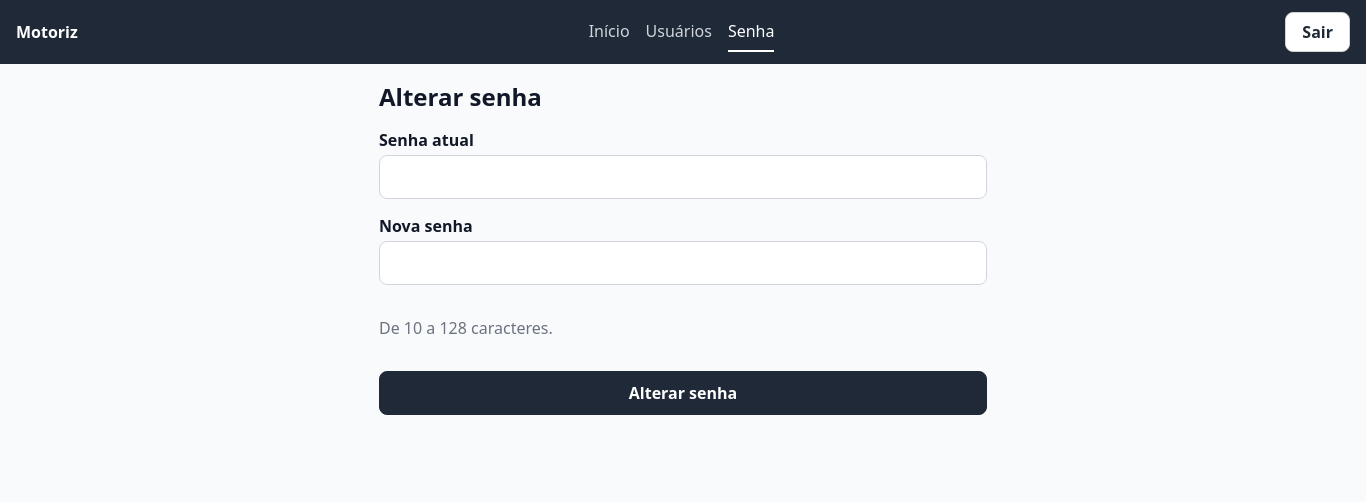
Test: AlterarSenha › troca a senha e confirma
In the password field labelled "Senha atual": (683, 177) [379,155,987,199], type "senha-antiga-1"
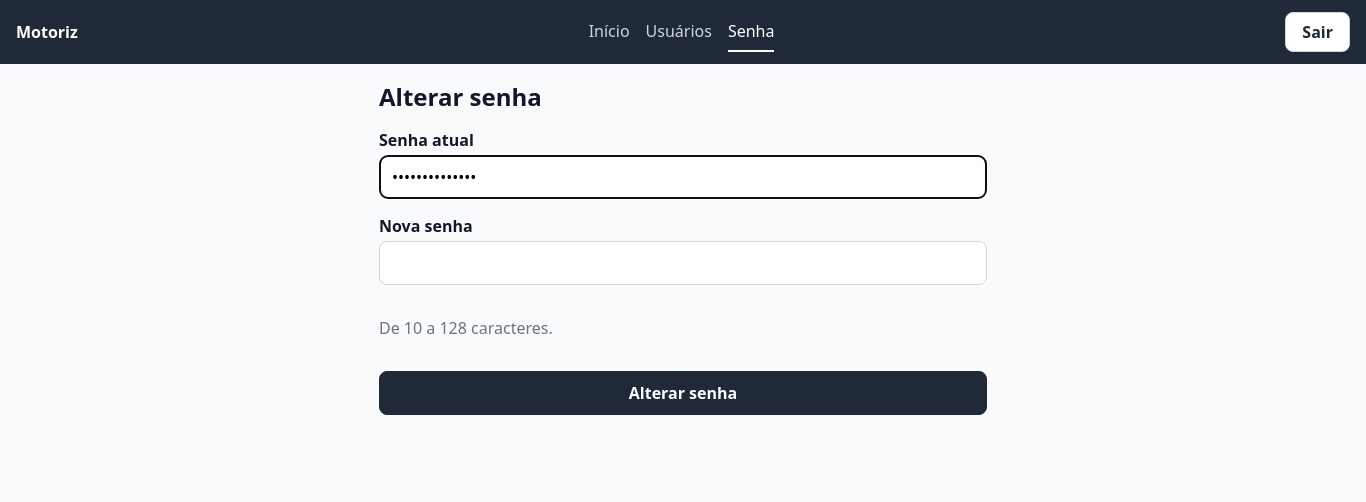
In the password field labelled "Nova senha": (683, 263) [379,241,987,285], type "nova-senha-123"
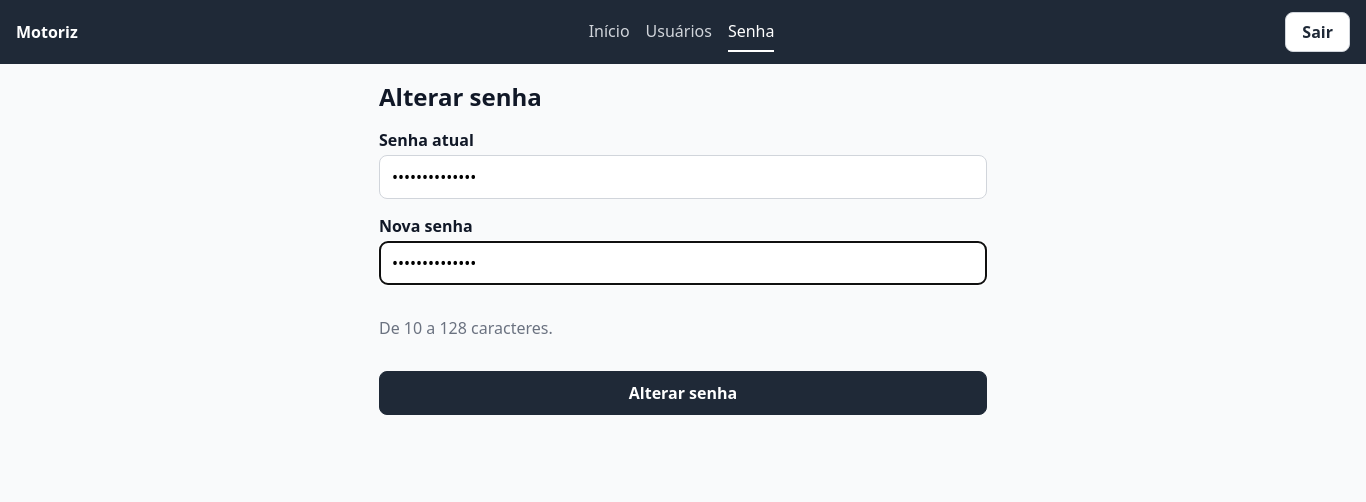
Click the button "Alterar senha": (683, 393) [379,371,987,415]
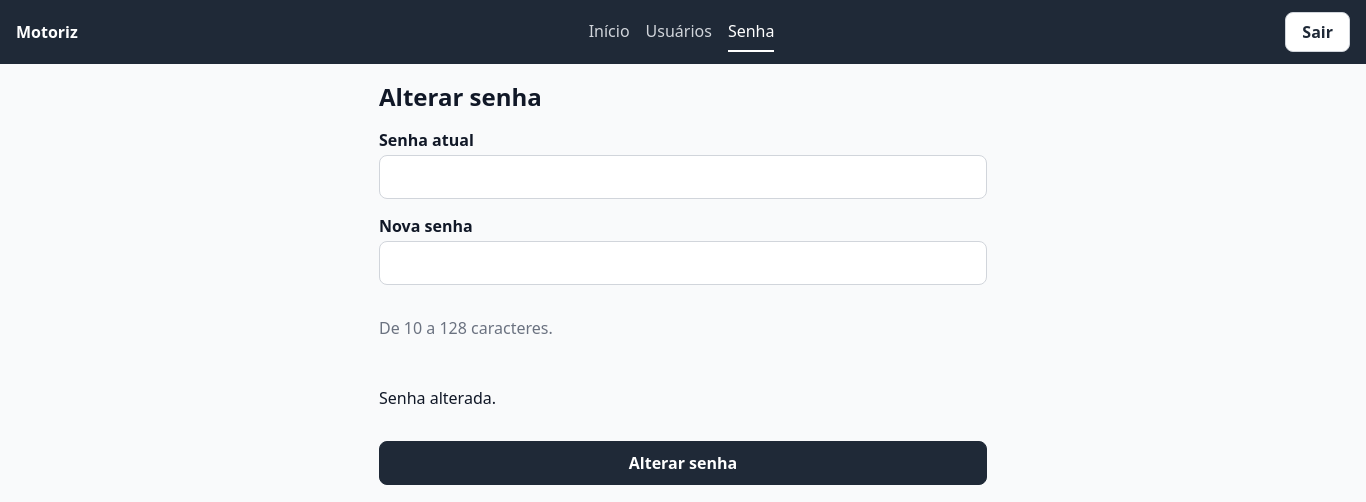
Expected: the text "Senha alterada." is shown, [379,387,496,409]
